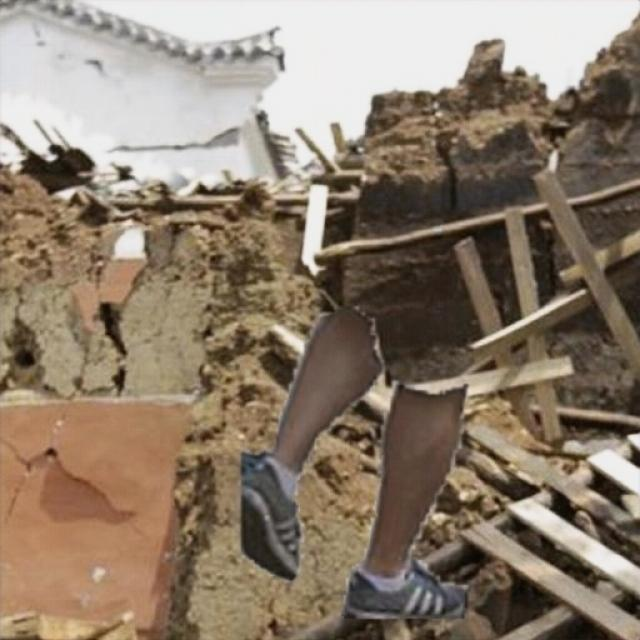Person in Rubble: (241, 306, 469, 618)
